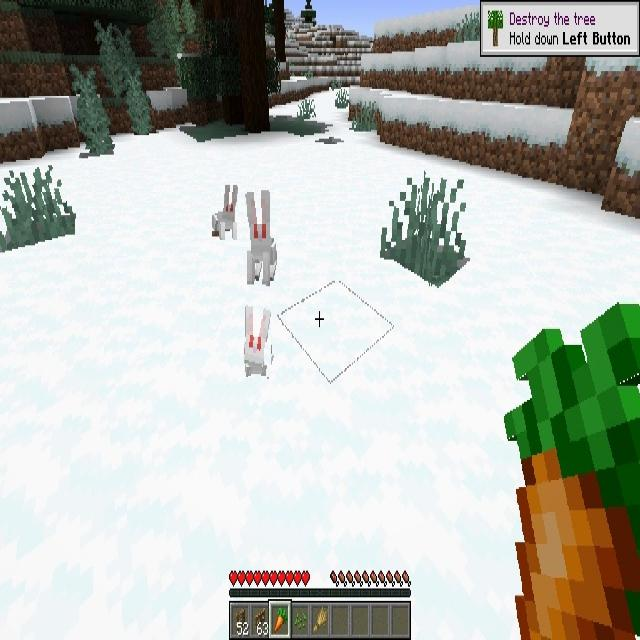rabbit: (245, 190, 278, 285), (244, 304, 271, 378), (211, 183, 238, 241)
